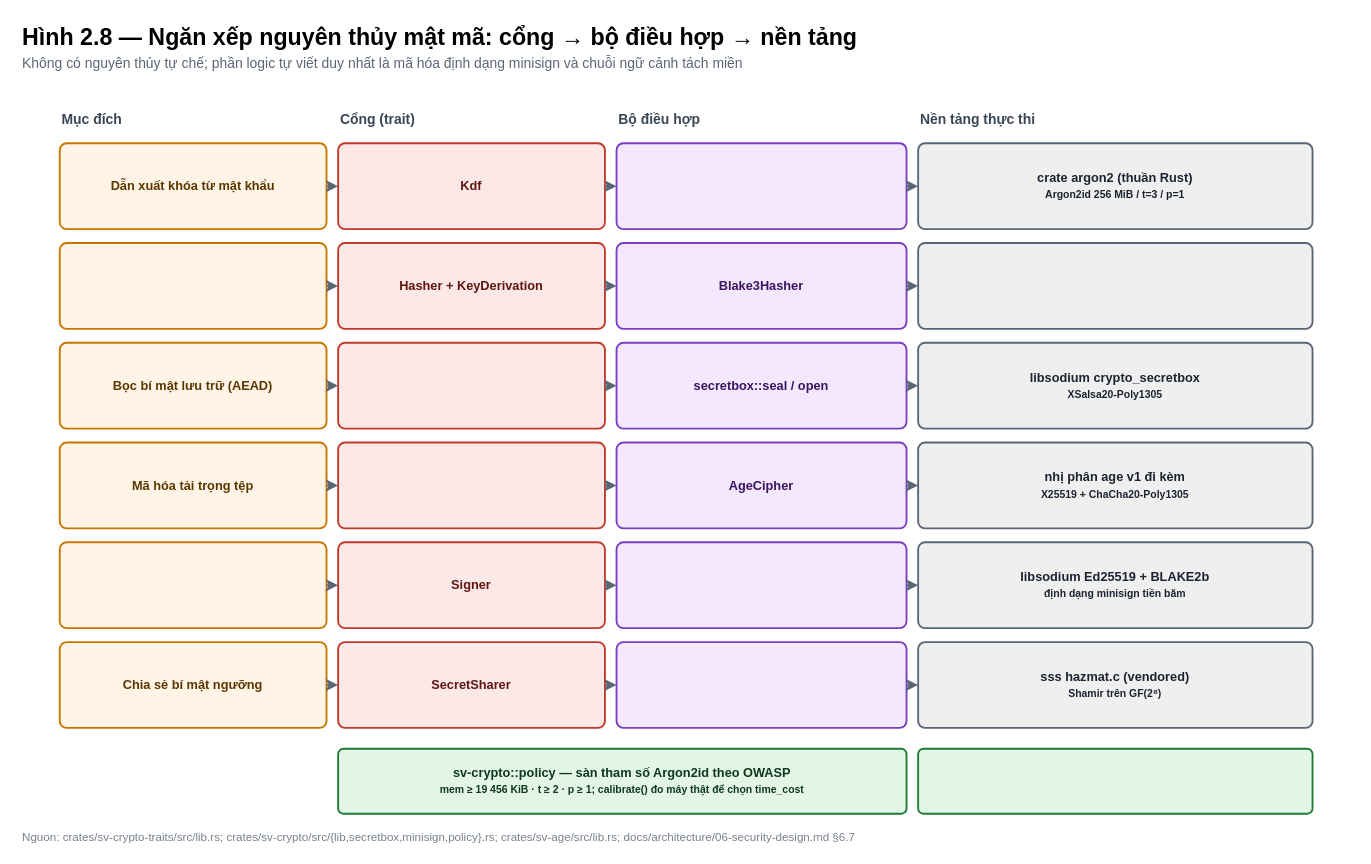
Some shapes in this 1371 by 864 pixel diagram are drawn without their labels. Here are the shapes that lost their labels. From the top down, the centre of each, then its label:
the point at 761,185: Argon2Kdf
the point at 192,285: Băm nội dung, MAC, khóa con
the point at 1115,285: crate blake3 hash · keyed_hash · derive_key
the point at 471,385: — (hàm secretbox)
the point at 471,485: FileCipher
the point at 192,584: Chữ ký số / xuất xứ
the point at 761,584: SodiumMinisignSigner
the point at 761,684: SssSharer
the point at 1115,780: CipherSuite::V1 — enum đóng một định danh duy nhất cho toàn bộ tổ hợp thuật toán
